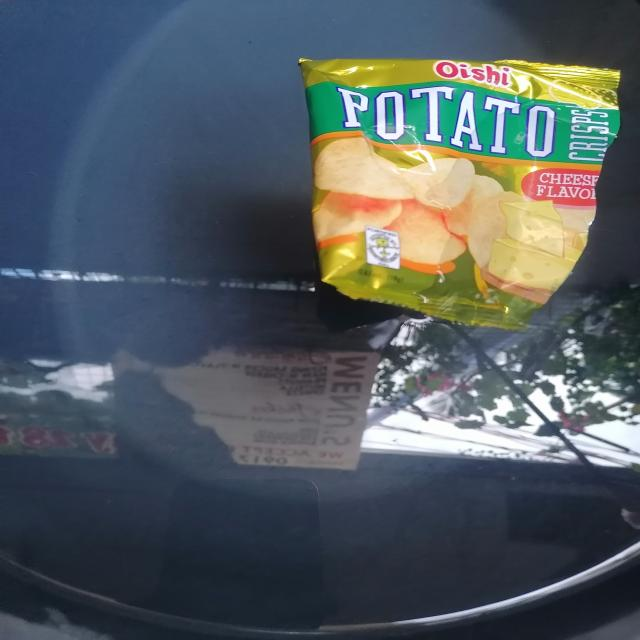Plastic Wrapper: (299, 59, 620, 330)
